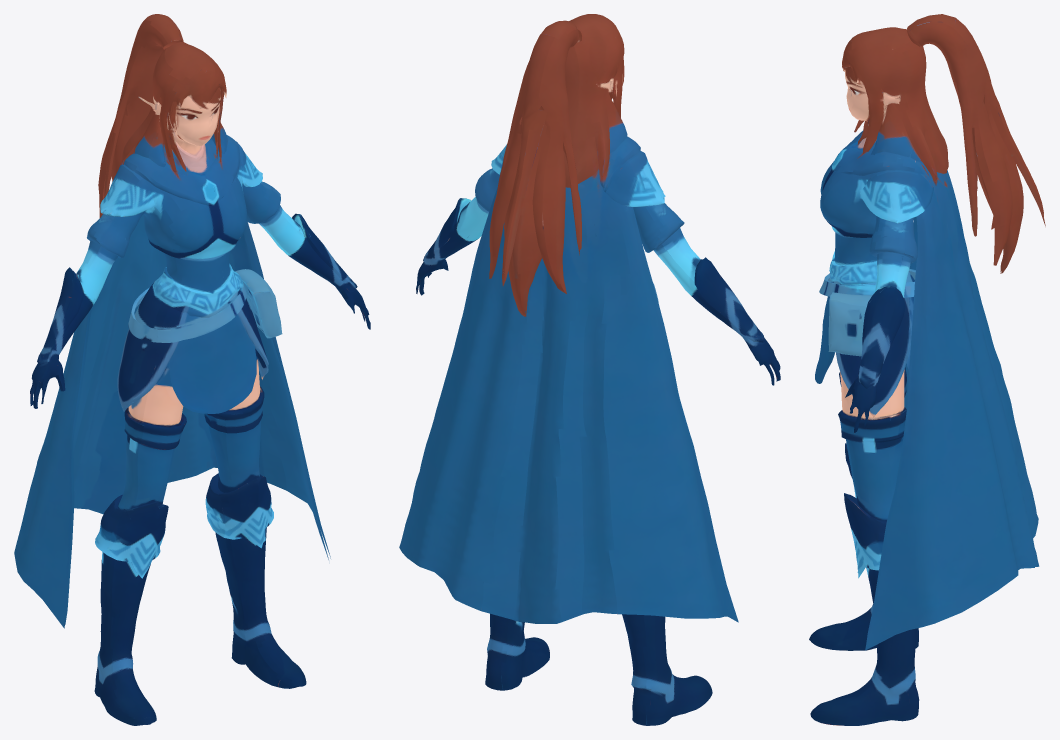
The model's file is elfa.glb.
3 renders of one model, left to right at view 1: azimuth 30°, elevation 25°; view 2: azimuth 150°, elevation 25°; view 3: azimuth 270°, elevation 25°, orthographic. The views are drawn at different scales.
Visible parts, largest first — view 1: Mesh; view 2: Mesh; view 3: Mesh.
Boxes of the visible parts, x1=… form: Mesh: x1=14, y1=14, x2=370, y2=725; Mesh: x1=399, y1=14, x2=780, y2=725; Mesh: x1=809, y1=14, x2=1045, y2=725.
Bounding box in the file's own units: 0.9268 × 1.7 × 0.5502.
1 material, 1 textured.
